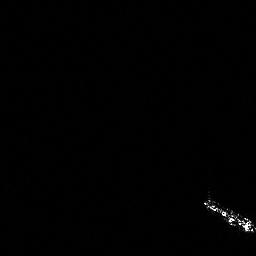ship: (200, 196, 256, 236)
